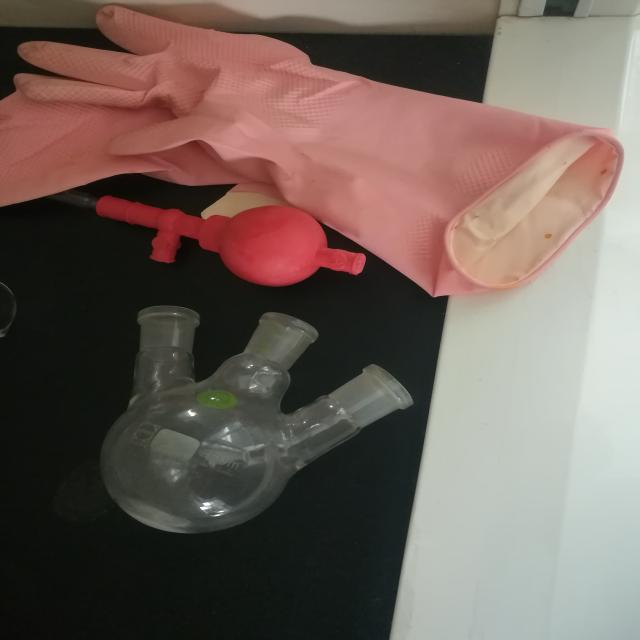Round_Bottom_Flask_Borosilicate_Glass_3_Neck: (93, 288, 425, 566)
